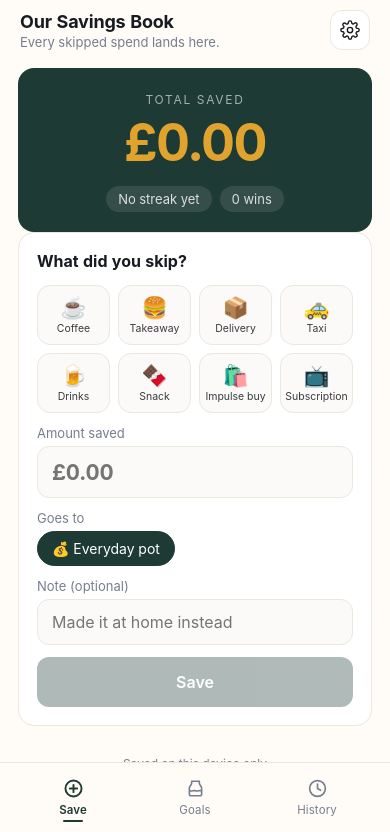
Scenario: yedekleme › ayarlarda yedekleme bölümü vardır
The image size is (390, 832).
Click the button named "Settings" at (350, 30), box [330,10,370,50]
(page scrolled)
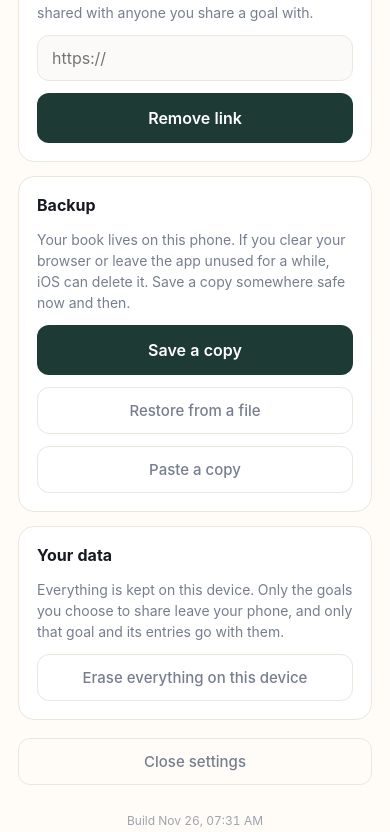
Now the heading "Backup" is shown, box [37,195,96,215]
Now the button "Save a copy" is shown, box [37,325,353,375]
Now the button "Restore from a file" is shown, box [37,387,353,434]
